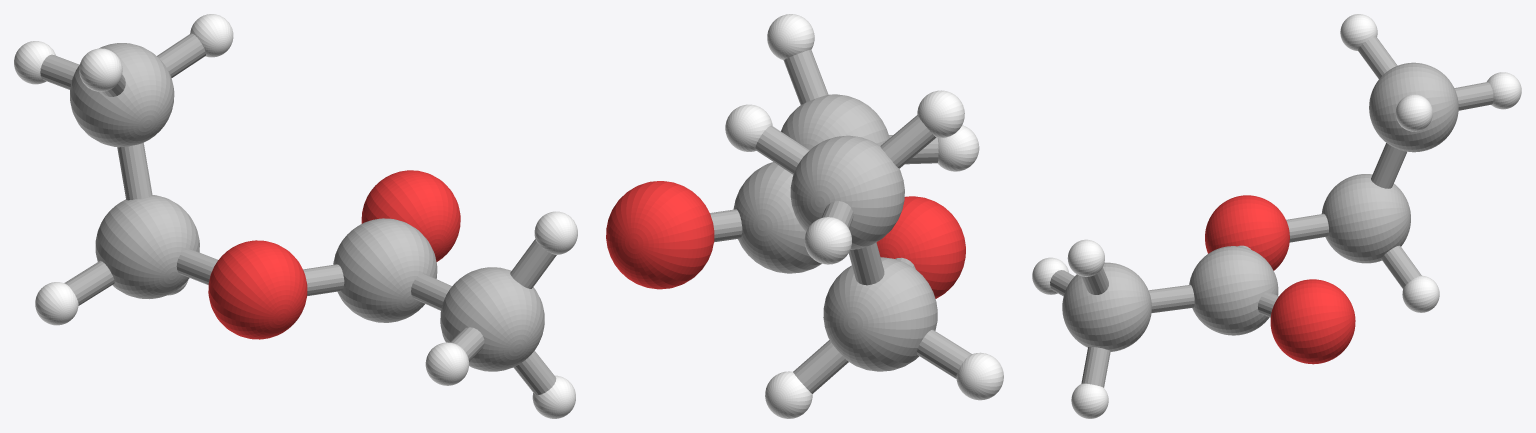
The model's file is asset.glb.
3 views of the same model, side by side, from view 1: azimuth 30°, elevation 25°; view 2: azimuth 150°, elevation 25°; view 3: azimuth 270°, elevation 25° (orthographic). The views are drawn at different scales.
Visible parts, largest first — view 1: Stick_Cylinder.012_Cylinder.012, Carbon_ball_Sphere.000, Carbon_ball_Sphere.001, Oxygen_ball_Sphere.001, Carbon_ball_Sphere.002, Carbon_ball_Sphere, Oxygen_ball_Sphere.001.000, Hydrogen_ball_Sphere.002.004, Hydrogen_ball_Sphere.002.001, Hydrogen_ball_Sphere.002.003, Hydrogen_ball_Sphere.002.005, Hydrogen_ball_Sphere.002.000 (+2 smaller); view 2: Stick_Cylinder.012_Cylinder.012, Carbon_ball_Sphere.000, Oxygen_ball_Sphere.001.000, Carbon_ball_Sphere, Carbon_ball_Sphere.001, Oxygen_ball_Sphere.001, Carbon_ball_Sphere.002, Hydrogen_ball_Sphere.002, Hydrogen_ball_Sphere.002.003, Hydrogen_ball_Sphere.002.001, Hydrogen_ball_Sphere.002.002, Hydrogen_ball_Sphere.002.005 (+2 smaller); view 3: Stick_Cylinder.012_Cylinder.012, Carbon_ball_Sphere.000, Carbon_ball_Sphere.001, Oxygen_ball_Sphere.001.000, Carbon_ball_Sphere.002, Carbon_ball_Sphere, Oxygen_ball_Sphere.001, Hydrogen_ball_Sphere.002.000, Hydrogen_ball_Sphere.002.005, Hydrogen_ball_Sphere.002.002, Hydrogen_ball_Sphere.002.006, Hydrogen_ball_Sphere.002.001 (+2 smaller).
Boxes of the visible parts, x1,y1,x2,y2 form: Stick_Cylinder.012_Cylinder.012: (40,33,556,394); Carbon_ball_Sphere.000: (95,195,199,299); Carbon_ball_Sphere.001: (333,218,437,322); Oxygen_ball_Sphere.001: (208,240,307,339); Carbon_ball_Sphere.002: (440,267,544,371); Carbon_ball_Sphere: (70,43,174,147); Oxygen_ball_Sphere.001.000: (361,170,460,261); Hydrogen_ball_Sphere.002.004: (425,342,468,385); Hydrogen_ball_Sphere.002.001: (79,48,122,91); Hydrogen_ball_Sphere.002.003: (35,282,78,325); Hydrogen_ball_Sphere.002.005: (534,211,577,254); Hydrogen_ball_Sphere.002.000: (190,14,233,57); Stick_Cylinder.012_Cylinder.012: (710,49,971,393); Carbon_ball_Sphere.000: (823,257,937,371); Oxygen_ball_Sphere.001.000: (606,181,714,289); Carbon_ball_Sphere: (790,135,904,249); Carbon_ball_Sphere.001: (733,162,821,273); Oxygen_ball_Sphere.001: (876,196,965,298); Carbon_ball_Sphere.002: (781,94,889,150); Hydrogen_ball_Sphere.002: (804,217,851,264); Hydrogen_ball_Sphere.002.003: (956,352,1003,400); Hydrogen_ball_Sphere.002.001: (917,90,964,137); Hydrogen_ball_Sphere.002.002: (765,371,812,418); Hydrogen_ball_Sphere.002.005: (767,14,814,60); Stick_Cylinder.012_Cylinder.012: (1050,36,1493,387); Carbon_ball_Sphere.000: (1321,174,1410,263); Carbon_ball_Sphere.001: (1189,246,1278,335); Oxygen_ball_Sphere.001.000: (1270,279,1355,364); Carbon_ball_Sphere.002: (1062,262,1151,351); Carbon_ball_Sphere: (1369,62,1458,152); Oxygen_ball_Sphere.001: (1205,195,1289,270); Hydrogen_ball_Sphere.002.000: (1395,94,1432,131); Hydrogen_ball_Sphere.002.005: (1067,239,1104,276); Hydrogen_ball_Sphere.002.002: (1402,275,1439,312); Hydrogen_ball_Sphere.002.006: (1071,383,1108,418); Hydrogen_ball_Sphere.002.001: (1340,14,1377,50).
Bounding box in the file's own units: 6.54 × 5.26 × 8.41.
